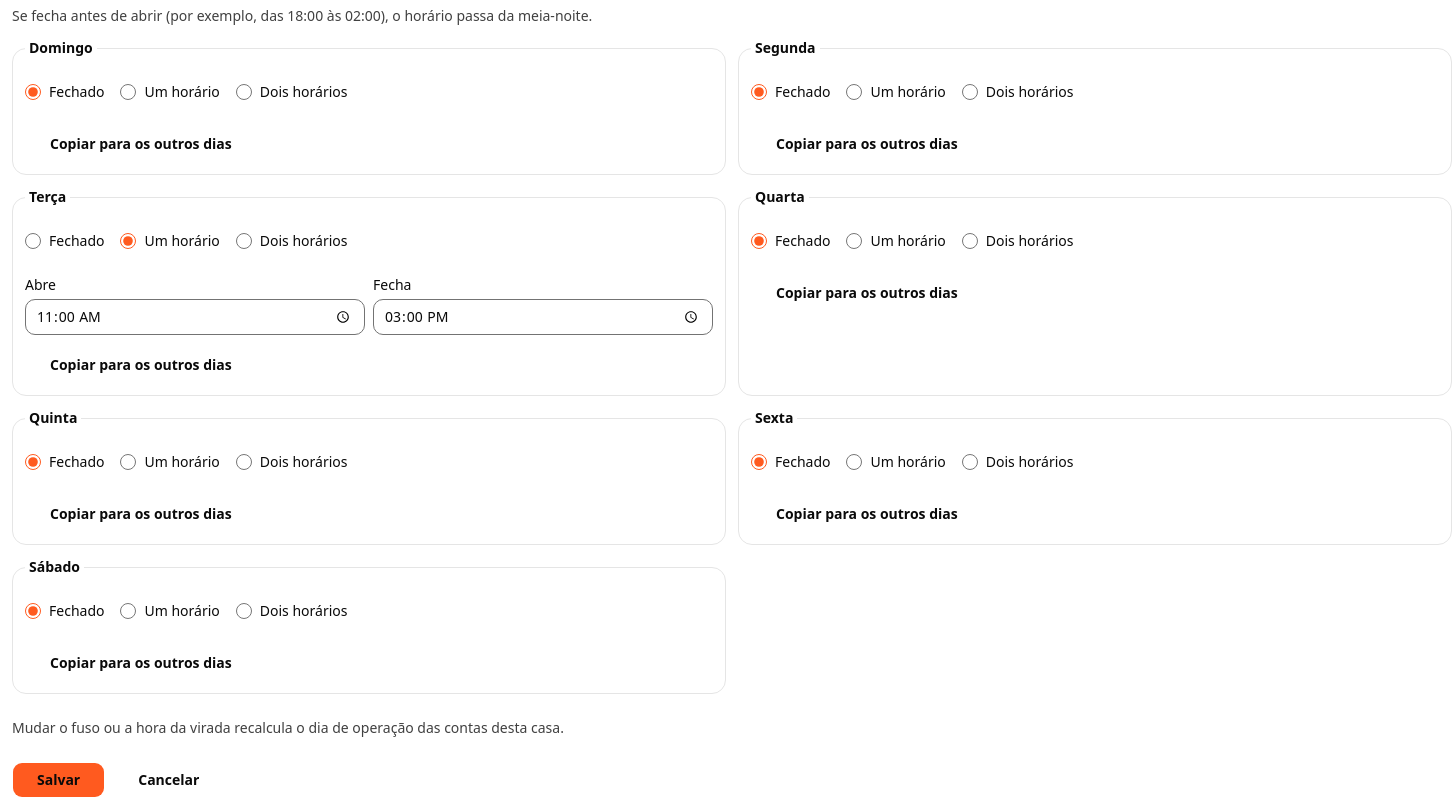
Test case: formulário do restaurante (cadastro e edição) › salvou mas não recalculou o dia: mostra aviso (não erro) e fica na tela
(page scrolled)
Click the button "Salvar" at coordinates (59, 780), box [12,762,105,797]
(page scrolled)
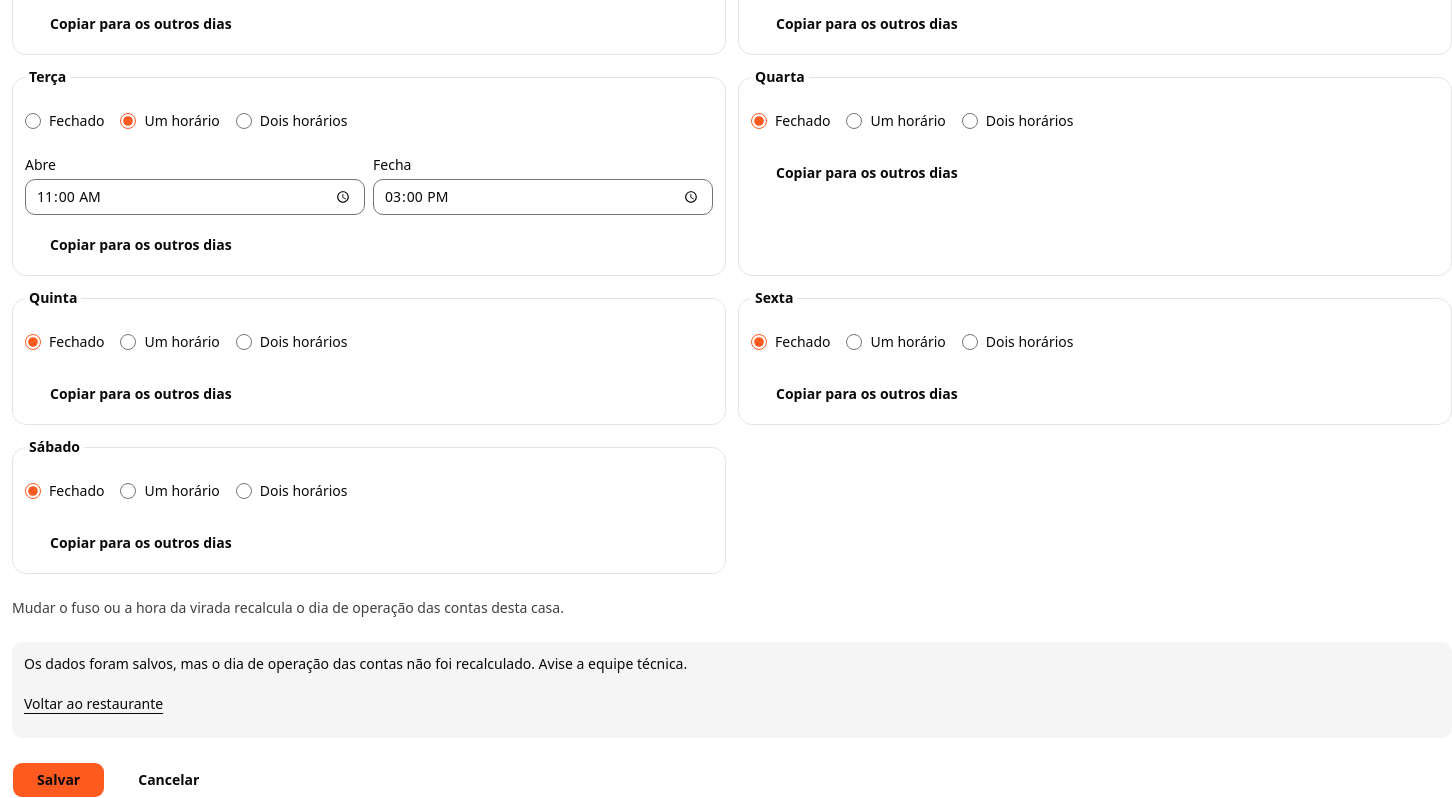
Check: the text "Os dados foram salvos, mas o dia de operação das contas não foi recalculado" is shown, box [24,654,687,673]
